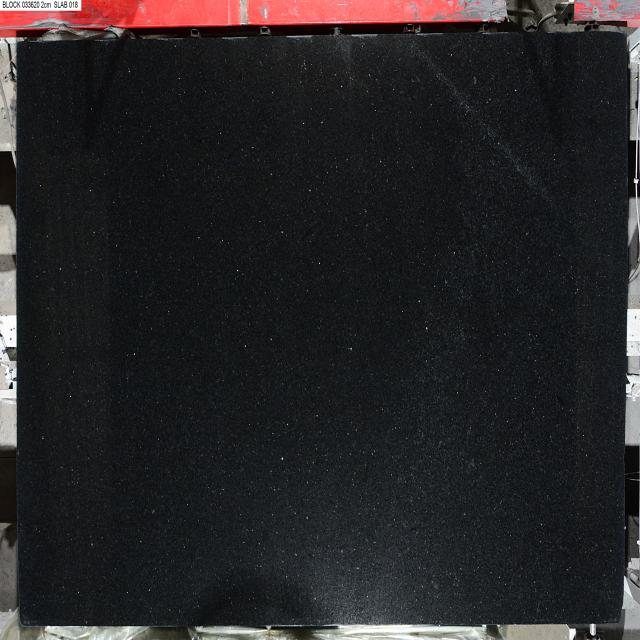chapa: (16, 32, 628, 626)
